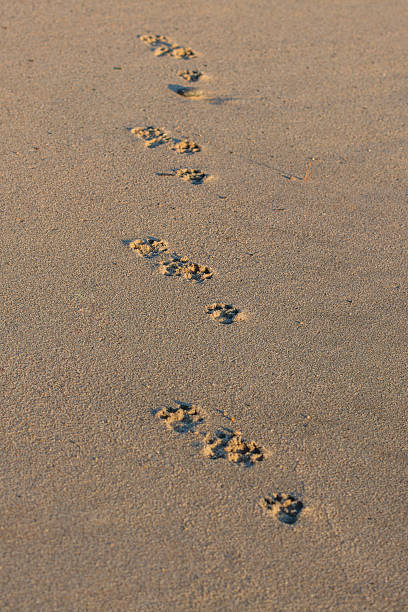animal_footprint: (203, 430, 265, 466), (129, 126, 200, 153), (155, 402, 203, 433), (160, 254, 212, 282), (139, 34, 196, 58), (168, 84, 236, 104), (259, 493, 302, 523), (130, 126, 171, 147), (157, 168, 208, 184), (205, 302, 241, 324), (129, 237, 167, 257), (168, 84, 208, 99), (175, 168, 208, 184), (171, 139, 200, 153), (177, 70, 202, 81)
